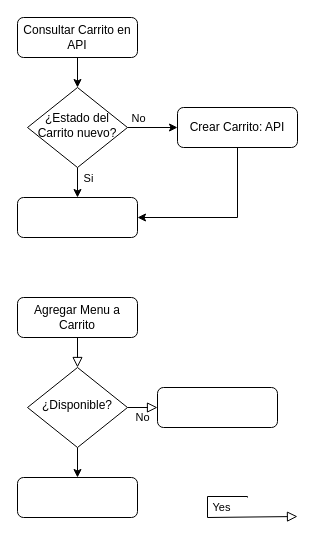
This 325x545 diagram has some shape labels left out. Here are the shapes that lost their labels. From the top down, the centre of each, then its label:
At pixel 77 217: "Setear en Estado (Redux State)".
At pixel 217 407: "'Mensaje de error'".
At pixel 77 497: "Agregado a Carrito".
